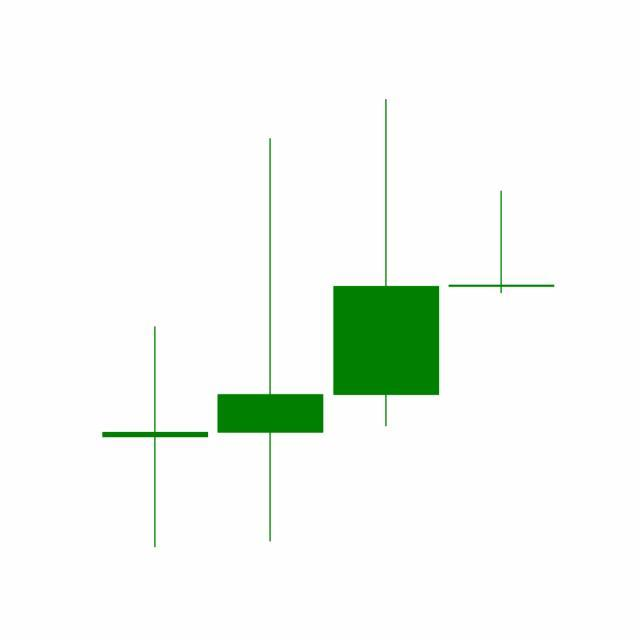Spinning Top: (444, 189, 560, 295)
